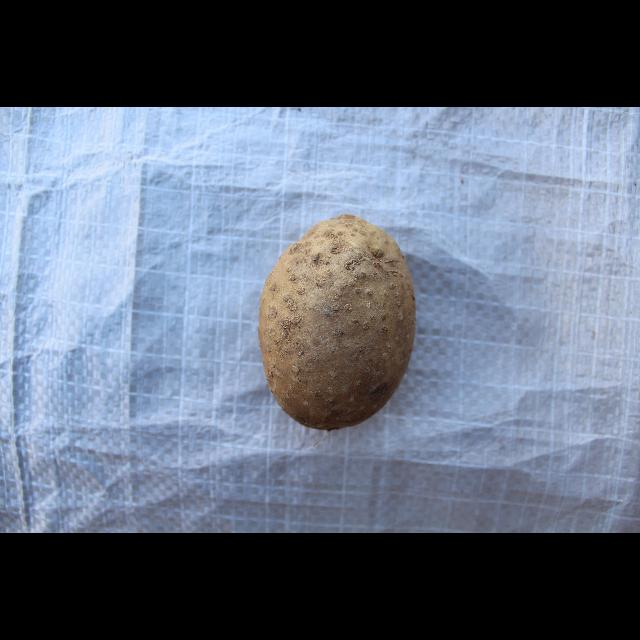Diseased-fungal potato: (258, 215, 422, 435)
